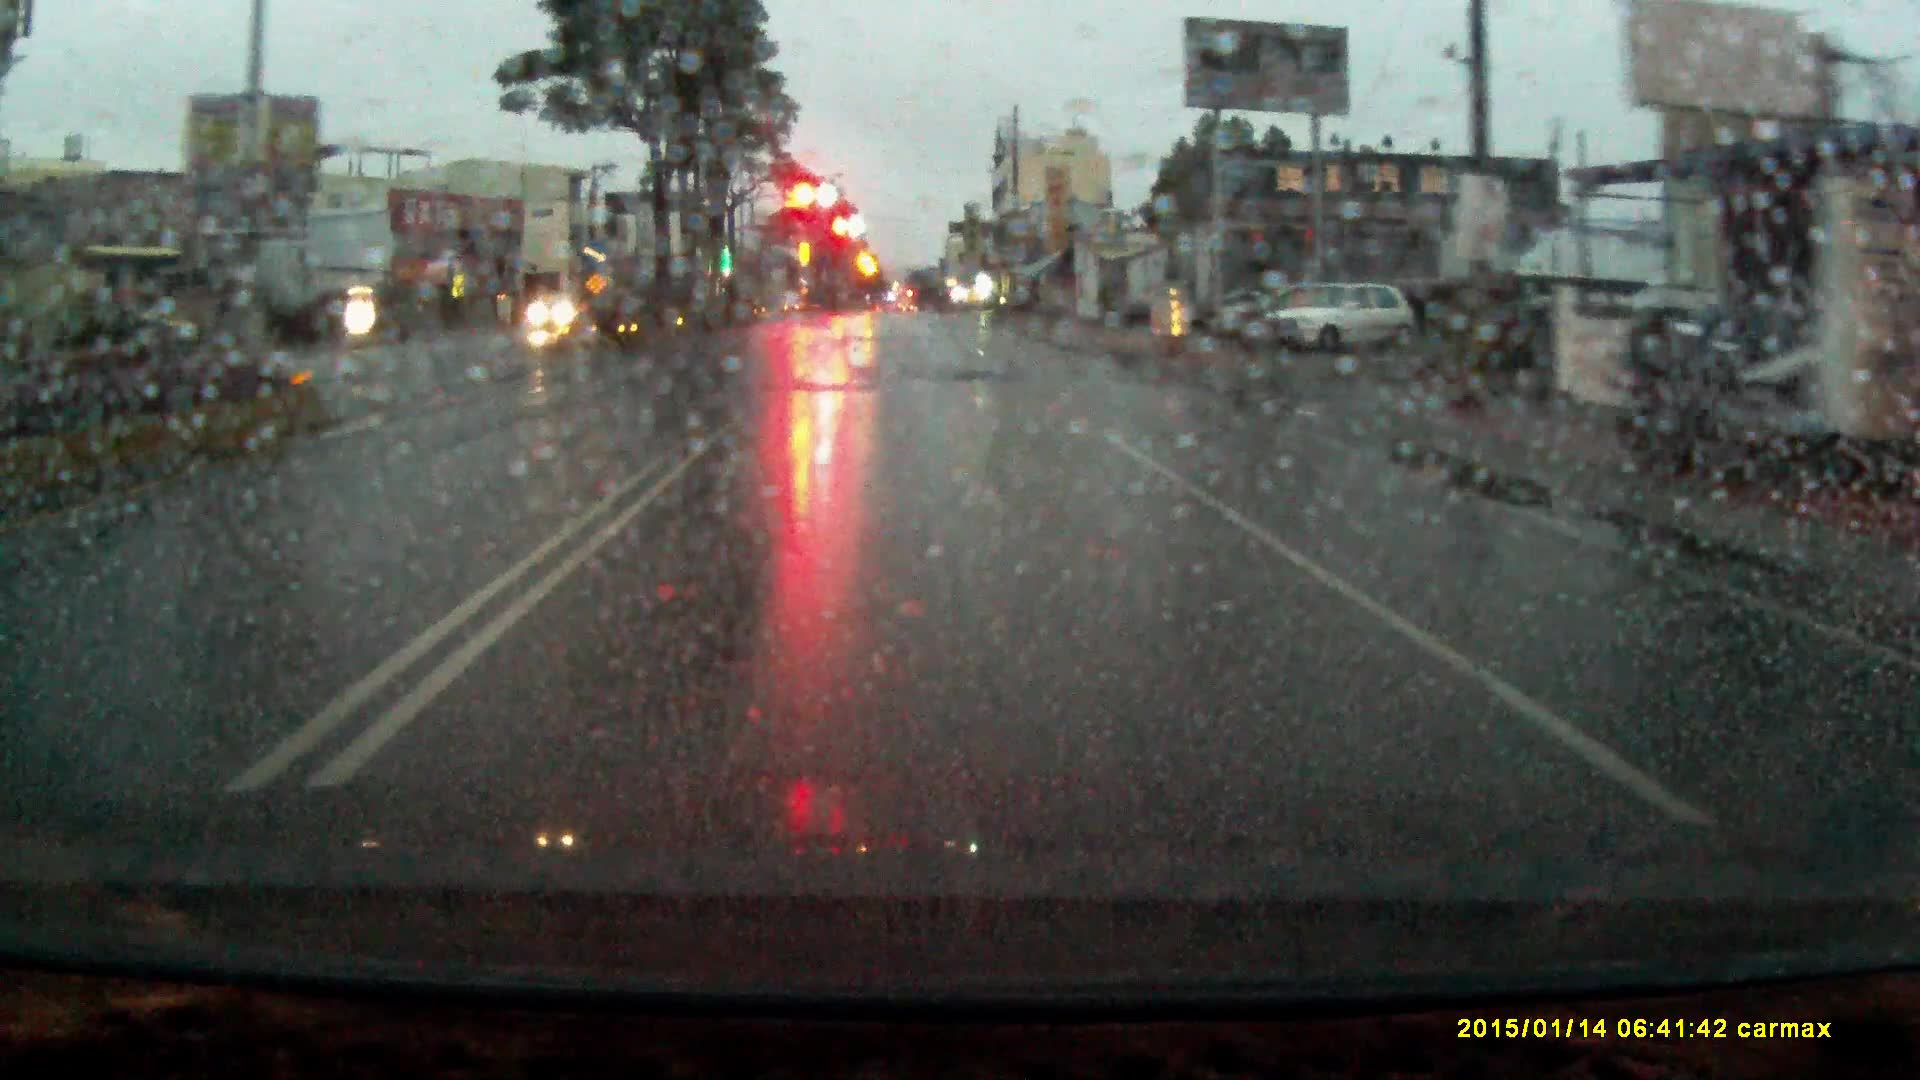vehicle: (1255, 280, 1422, 353), (1230, 281, 1360, 349), (531, 291, 593, 332), (998, 284, 1046, 316)
